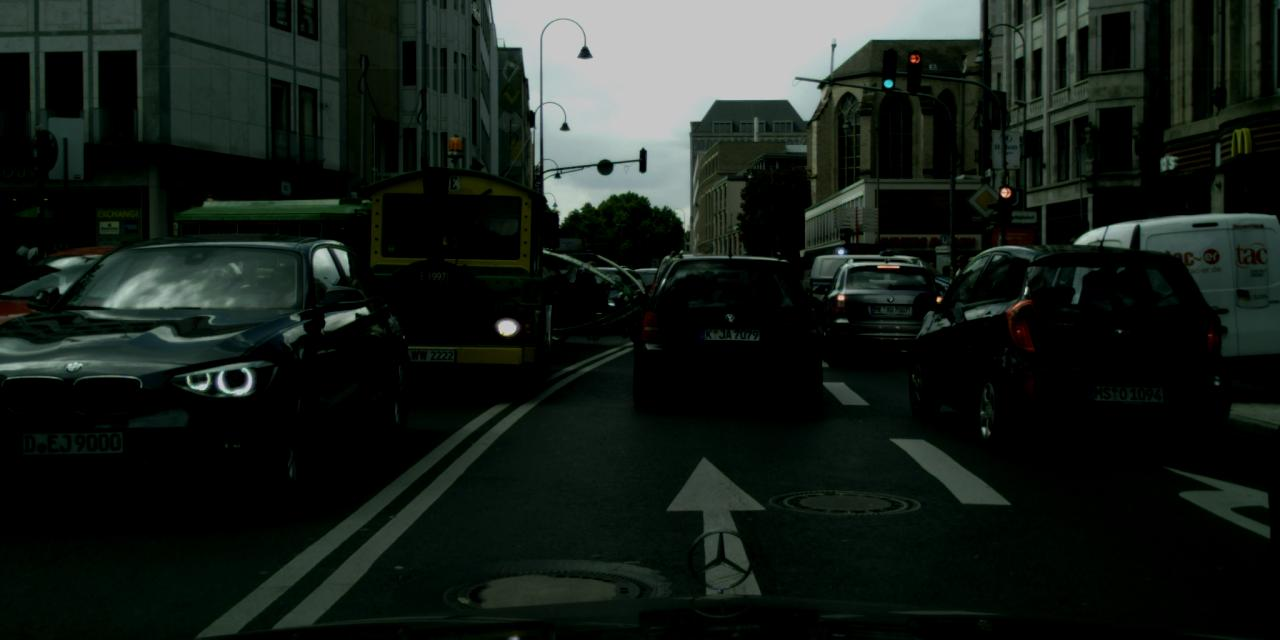ped: (949, 254, 979, 328), (14, 237, 37, 261), (46, 247, 48, 254)
